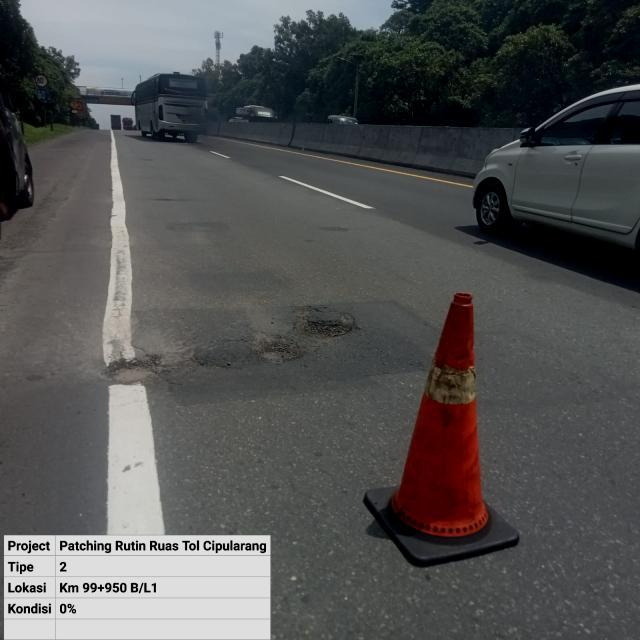Buraco: (284, 304, 359, 341), (100, 351, 176, 387), (244, 328, 312, 368)
